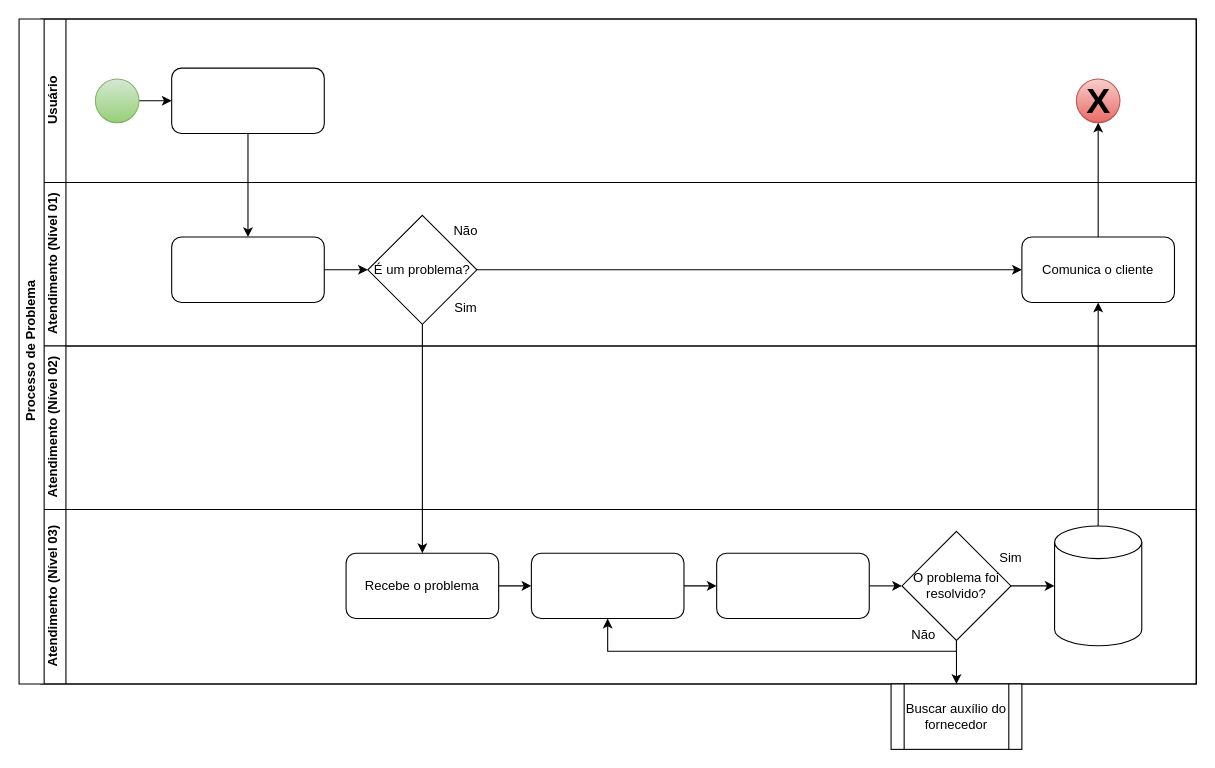
This 1215x768 diagram has some shape labels left out. Here are the shapes that lost their labels. From the top down, the centre of each, then its label:
At (247,100): "Usuário relata o problema na ferramenta de Help Desk".
At (247,269): "O atendente registra, classifica e prioriza o problema.".
At (607,585): "Aplica solução de contorno".
At (792,585): "Identifica causa raiz".
At (1097,585): "Atualiza base de conhecimento".
